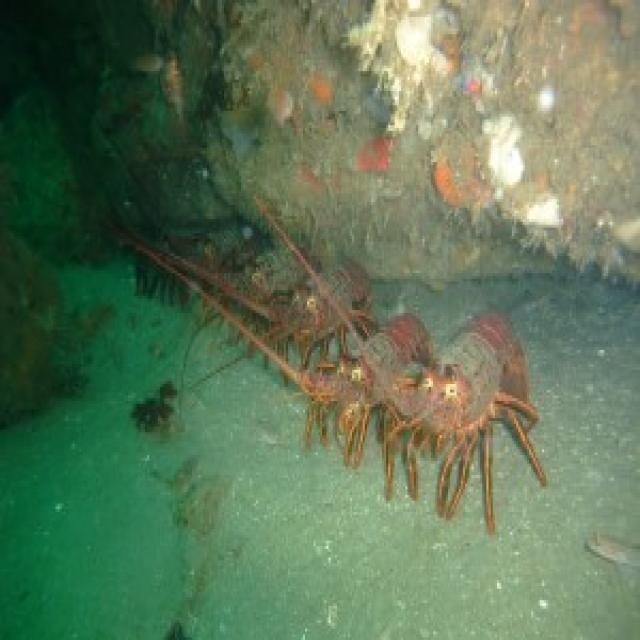lobsters: (91, 168, 373, 349), (377, 284, 559, 518), (284, 297, 436, 423)
